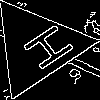H: (12, 22, 76, 78)
